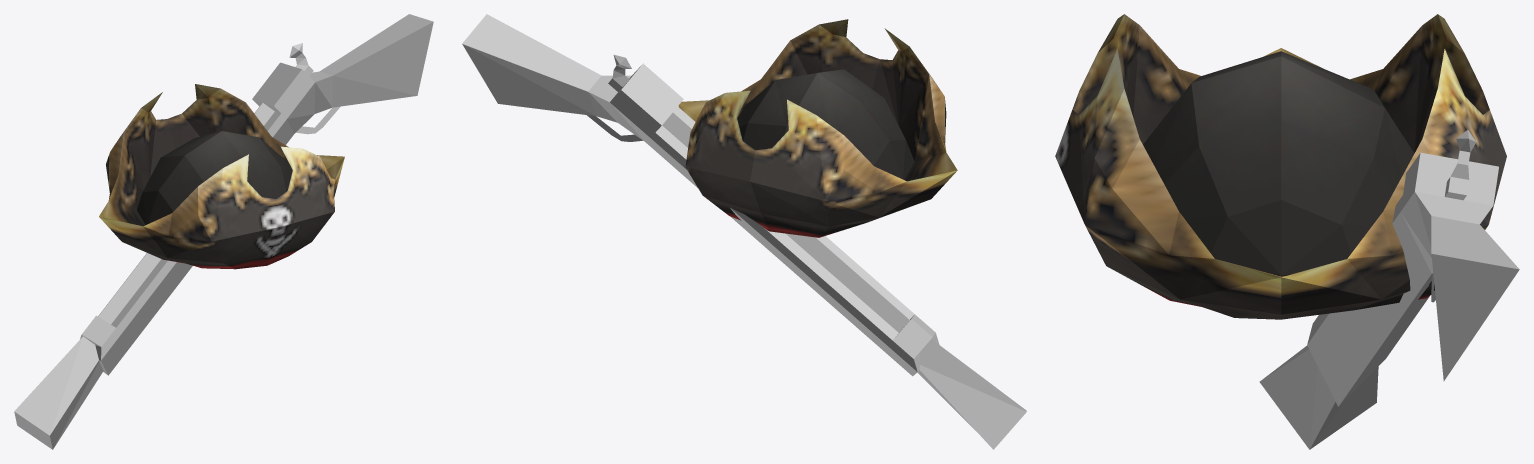
File: add_Pirate.FBX
3 views of the same model, side by side, from view 1: azimuth 30°, elevation 25°; view 2: azimuth 150°, elevation 25°; view 3: azimuth 270°, elevation 25° (orthographic). The views are drawn at different scales.
Parts seen in each view (by area): view 1: Pirate_Cap001, Pirate_Back; view 2: Pirate_Cap001, Pirate_Back; view 3: Pirate_Cap001, Pirate_Back.
Part boxes in pixels (x1,y1,x2,y2): Pirate_Cap001: (99, 84, 344, 269); Pirate_Back: (14, 14, 433, 449); Pirate_Cap001: (678, 19, 957, 237); Pirate_Back: (462, 14, 1026, 449); Pirate_Cap001: (1055, 14, 1506, 319); Pirate_Back: (1259, 130, 1519, 449).
Bounding box in the file's own units: 1.91 × 1.25 × 0.9024.
